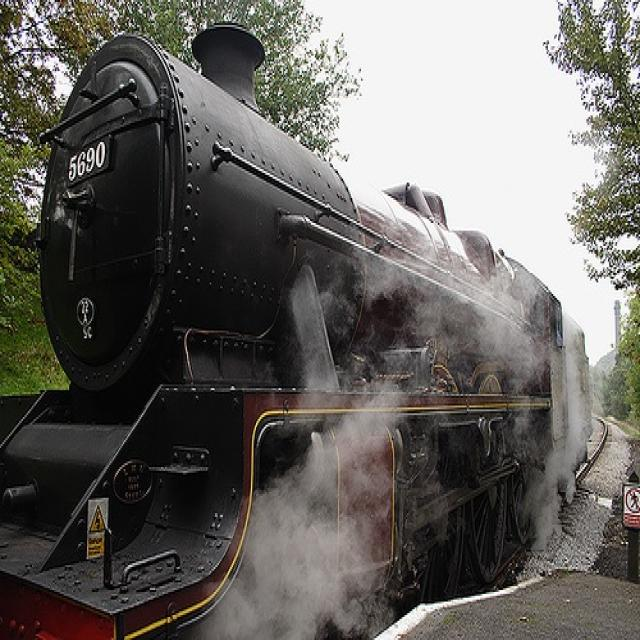train: (0, 19, 589, 638)
